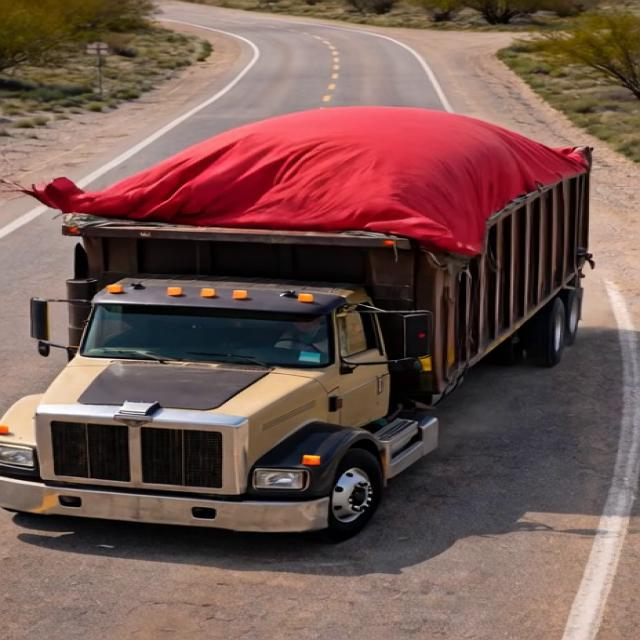trailer: (48, 115, 588, 248)
truck: (4, 111, 624, 529)
